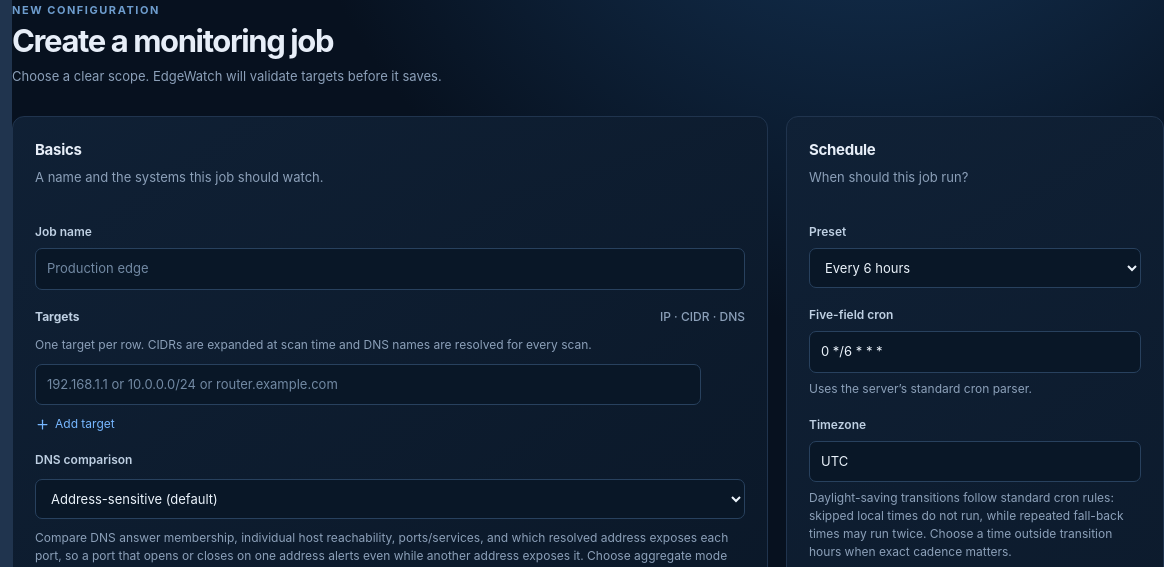
Test: job editor workflow coverage › warns when the targets expand beyond the deployment host ceiling
Expected: the heading "Create a monitoring job" is shown, [12, 22, 333, 58]
Type "198.51.100.0/24" into the field named "Target 1". click: (368, 384)
box: [35, 364, 701, 405]
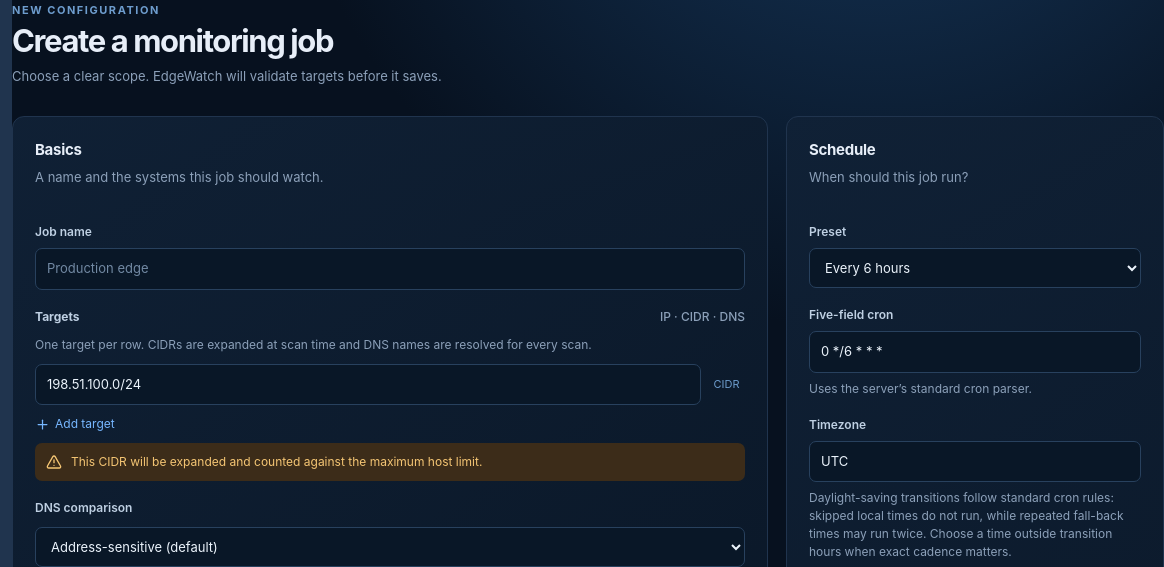
Replace the text in the field named "Target 1" with "198.51.0.0/16". click: (368, 384)
box: [35, 364, 701, 405]
(page scrolled)
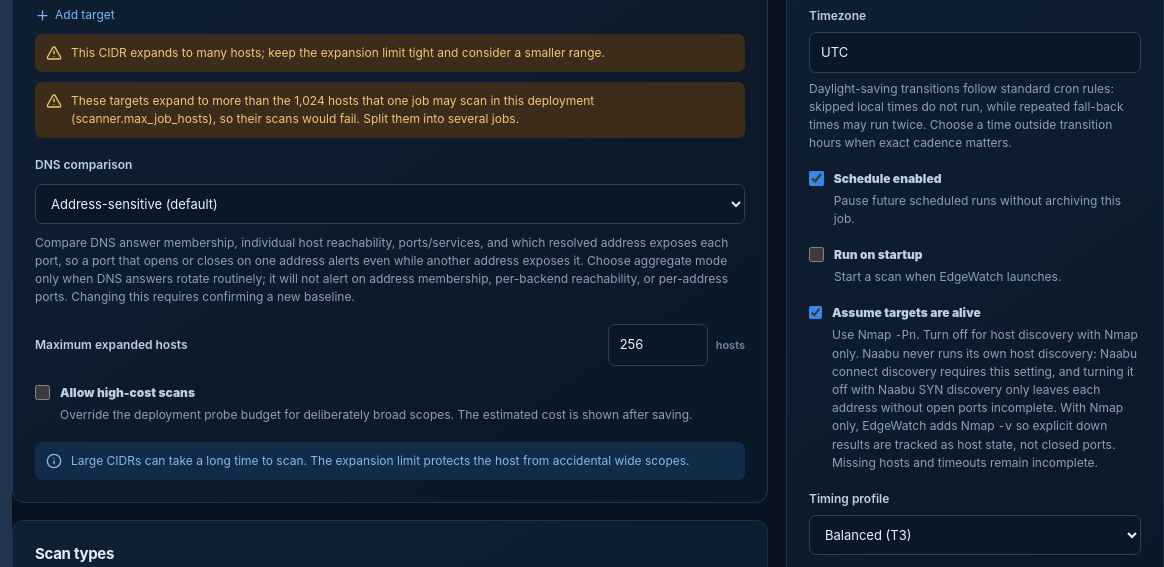
Result: the text "more than the 1,024 hosts that one job may scan in this deployment (scanner.max_job_hosts)" is shown at [71, 93, 594, 126]
